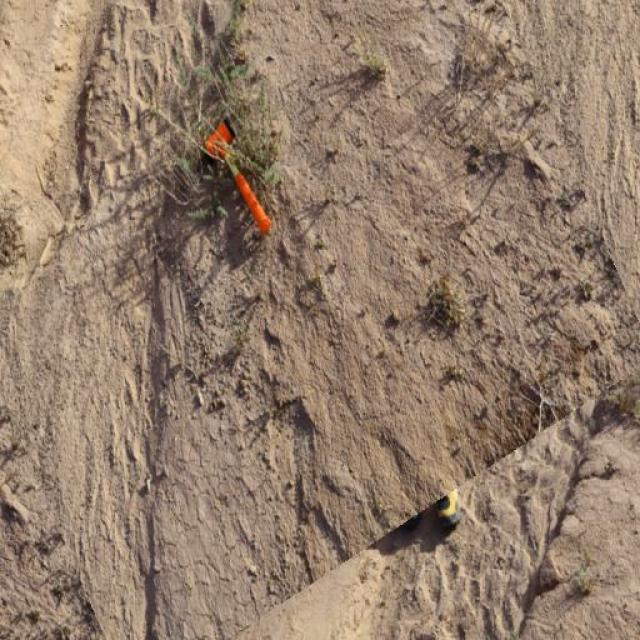mallet: (204, 116, 274, 235)
